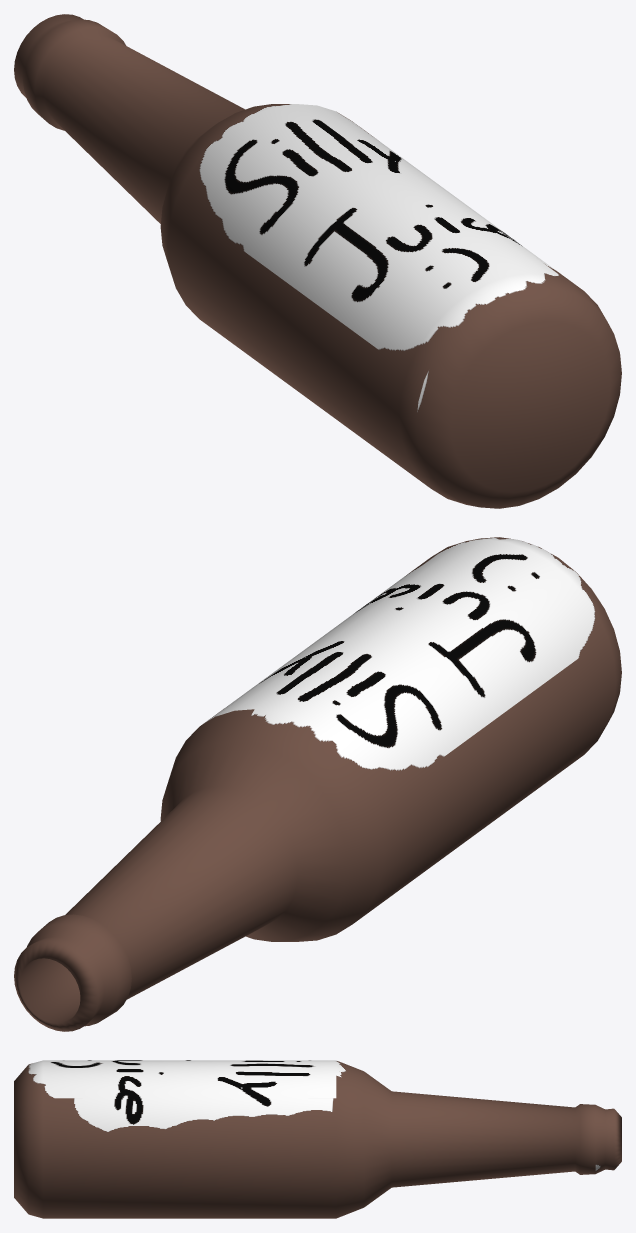
The model's file is Bottle.fbx.
3 views of the same model, one above another, from view 1: azimuth 30°, elevation 25°; view 2: azimuth 150°, elevation 25°; view 3: azimuth 270°, elevation 25° (orthographic). The views are drawn at different scales.
Parts seen in each view (by area): view 1: Bottle; view 2: Bottle; view 3: Bottle.
Boxes of the visible parts, x1,y1,x2,y2 form: Bottle: [14, 14, 621, 508]; Bottle: [14, 537, 621, 1031]; Bottle: [14, 1060, 621, 1218].
Bounding box in the file's own units: 6376 × 6376 × 24486.
